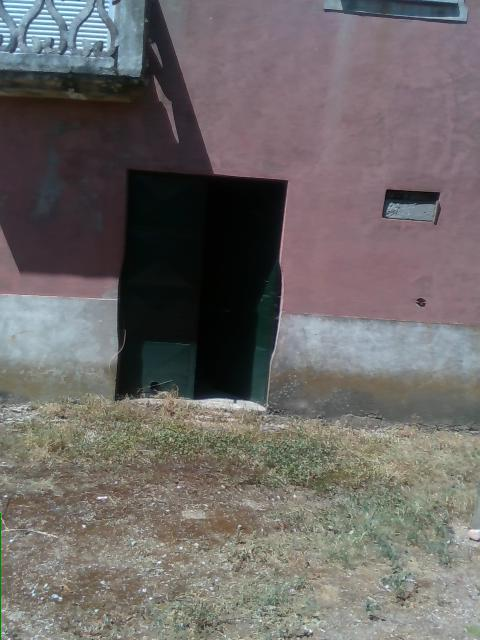semi_door: (115, 170, 289, 409)
